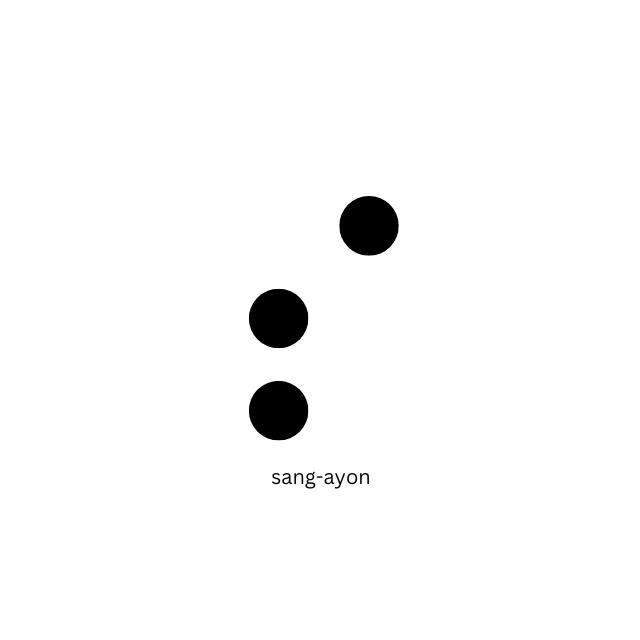one_cell_alphabet_sang-ayon: (248, 195, 401, 444)
